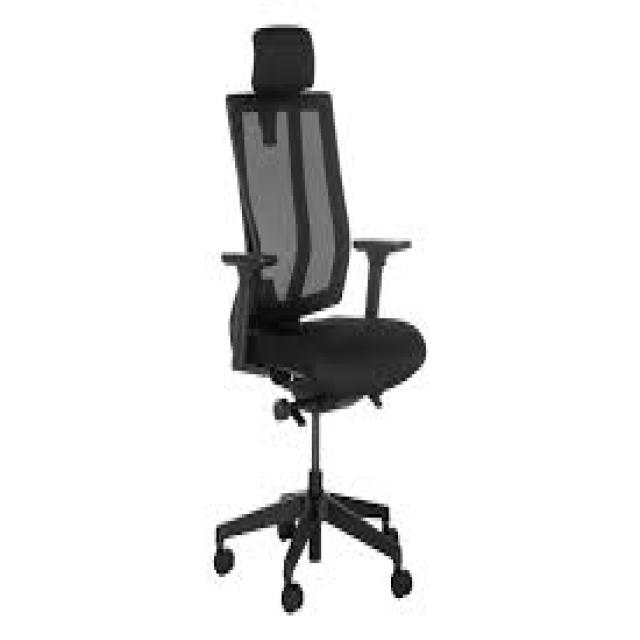chair: (162, 0, 448, 640)
